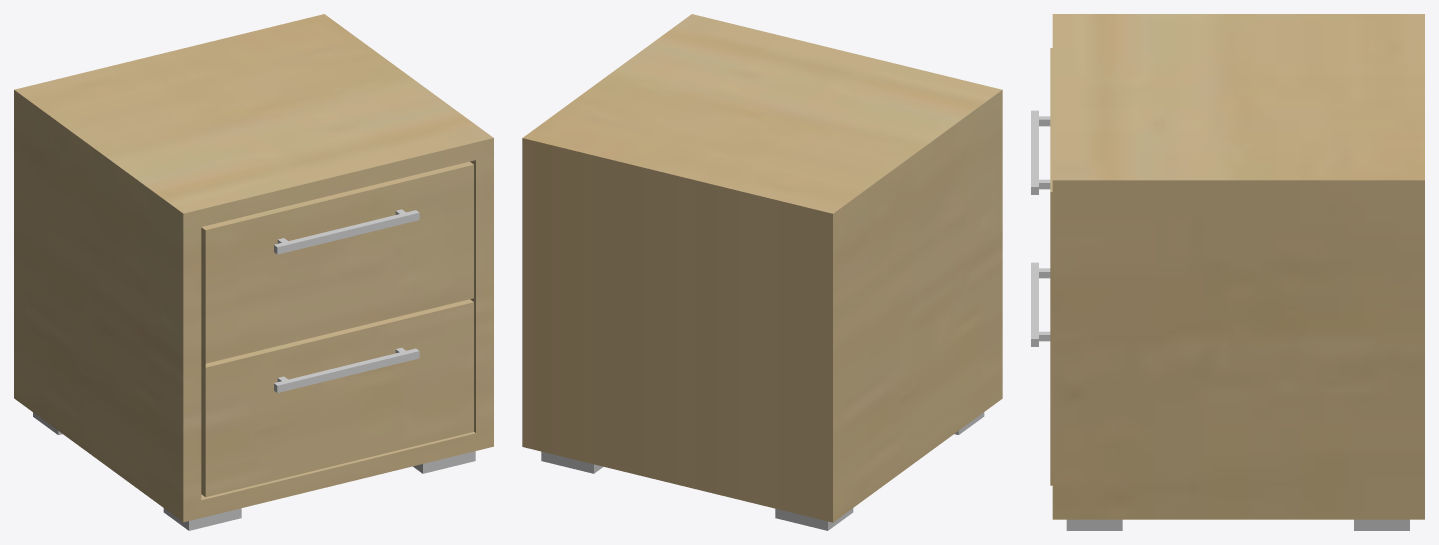
Rendered from sh-bs0-bedside-table2.glb.
The picture shows the model from 3 angles, left to right: view 1: azimuth 30°, elevation 25°; view 2: azimuth 150°, elevation 25°; view 3: azimuth 270°, elevation 25°; orthographic projection. The views are drawn at different scales.
Parts seen in each view (by area): view 1: bedside_table.001_Cube.005; view 2: bedside_table.001_Cube.005; view 3: bedside_table.001_Cube.005.
Part boxes in pixels (x1,y1,x2,y2): bedside_table.001_Cube.005: [14, 14, 493, 530]; bedside_table.001_Cube.005: [522, 14, 1002, 530]; bedside_table.001_Cube.005: [1031, 14, 1424, 530].
Bounding box in the file's own units: 1 × 1 × 1.
3 materials, 1 textured.
